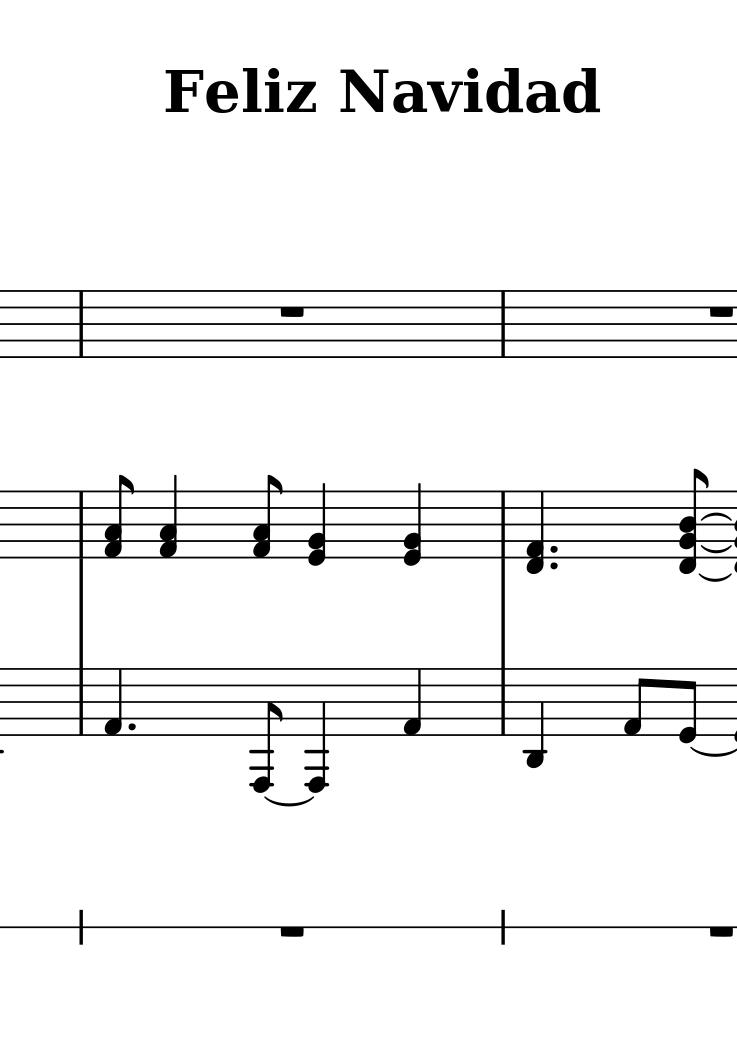4_-1_1: (526, 490, 547, 574)
4_-3: (524, 666, 547, 768)
4_-6: (303, 667, 332, 794)
4_0_2: (306, 483, 328, 566), (401, 482, 423, 565)
4_1: (400, 667, 424, 739), (102, 667, 124, 738)
4_1_3: (159, 475, 180, 560)
8_-6: (249, 667, 282, 794)
8_0: (676, 667, 699, 746)
8_1: (620, 667, 652, 738)
8_1_3: (105, 475, 136, 560), (253, 475, 284, 560)
8_th: (677, 464, 710, 574)
Rests1: (276, 923, 308, 945), (275, 302, 308, 320), (704, 923, 735, 942), (704, 302, 735, 320)
Single_barline: (494, 492, 513, 558), (495, 668, 513, 736), (72, 491, 90, 558), (72, 669, 90, 735), (494, 291, 511, 357), (73, 291, 89, 357)
Slur: (263, 795, 313, 808), (690, 745, 737, 758), (700, 510, 732, 523), (698, 573, 733, 583), (700, 543, 734, 553)
dot: (122, 718, 138, 736), (548, 559, 562, 571), (548, 543, 560, 554)
